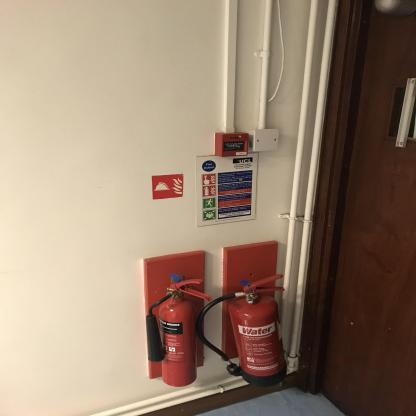Fire Extinguisher: (209, 259, 314, 397), (143, 258, 202, 400)
